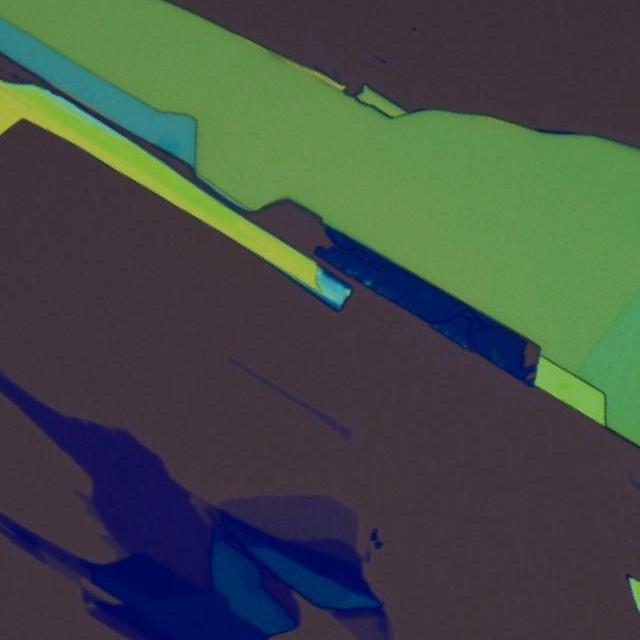monolayer-eWW4: (218, 488, 356, 546), (346, 613, 396, 640), (44, 552, 82, 582), (98, 532, 128, 562), (76, 488, 100, 522)
